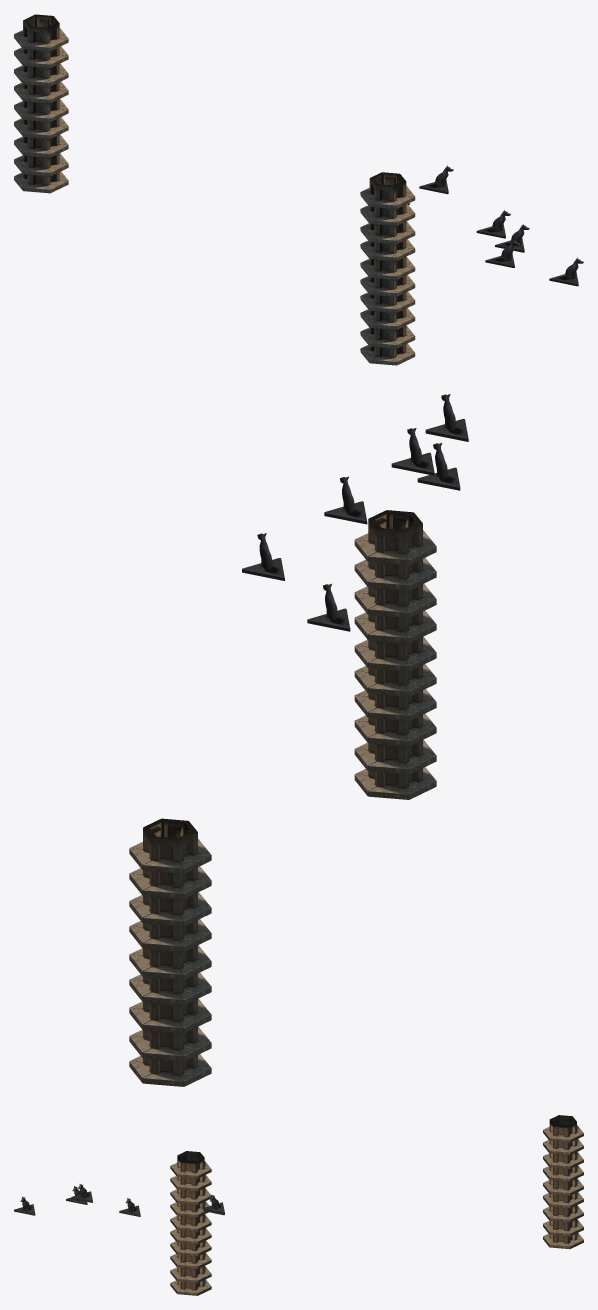
Rendered from pegaso_03.dae.
3 views of the same model, one above another, from view 1: azimuth 30°, elevation 25°; view 2: azimuth 150°, elevation 25°; view 3: azimuth 270°, elevation 25° (orthographic). The views are drawn at different scales.
Parts seen in each view (by area): view 1: torre06 (×2); view 2: torre04 (×9); view 3: torre02 (×2).
Part boxes in pixels (x1,y1,x2,y2): torre06 (×2): (23, 26, 396, 208); torre04 (×9): (143, 528, 408, 1061); torre02 (×2): (177, 1124, 569, 1178).
Bounding box in the file's own units: 3414 × 2777 × 10951.
Materials: 8 (8 with a texture image).
